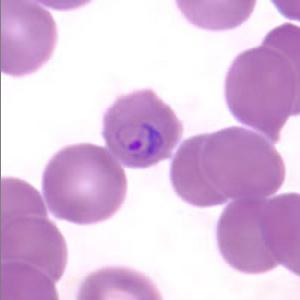Infected: (103, 85, 181, 168)
Uninfected: (38, 141, 127, 226), (225, 46, 297, 142), (199, 125, 285, 199), (0, 212, 63, 288), (218, 192, 278, 270), (0, 0, 60, 78), (170, 136, 232, 205), (261, 189, 300, 274)
